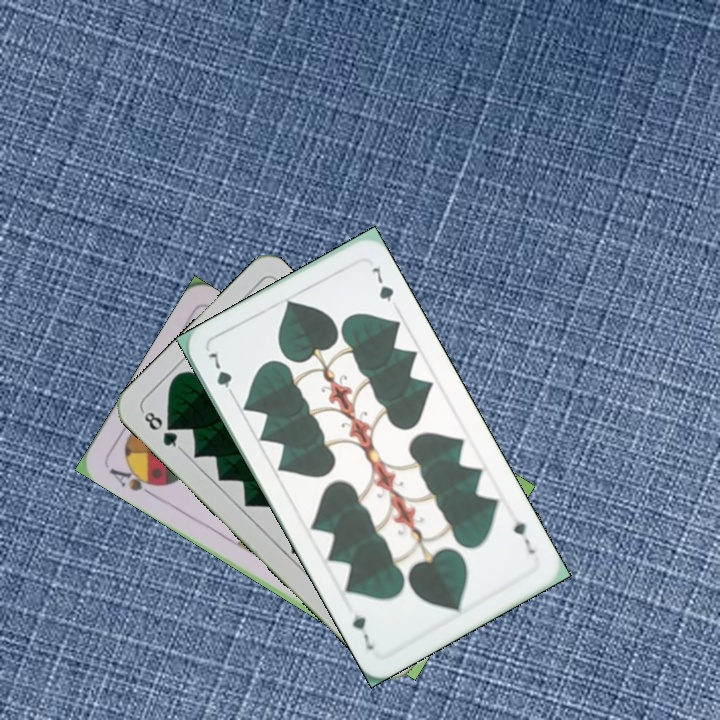G7: (204, 347, 238, 402), (509, 516, 538, 557)
G8: (138, 406, 185, 453)
SA: (105, 460, 163, 500)
